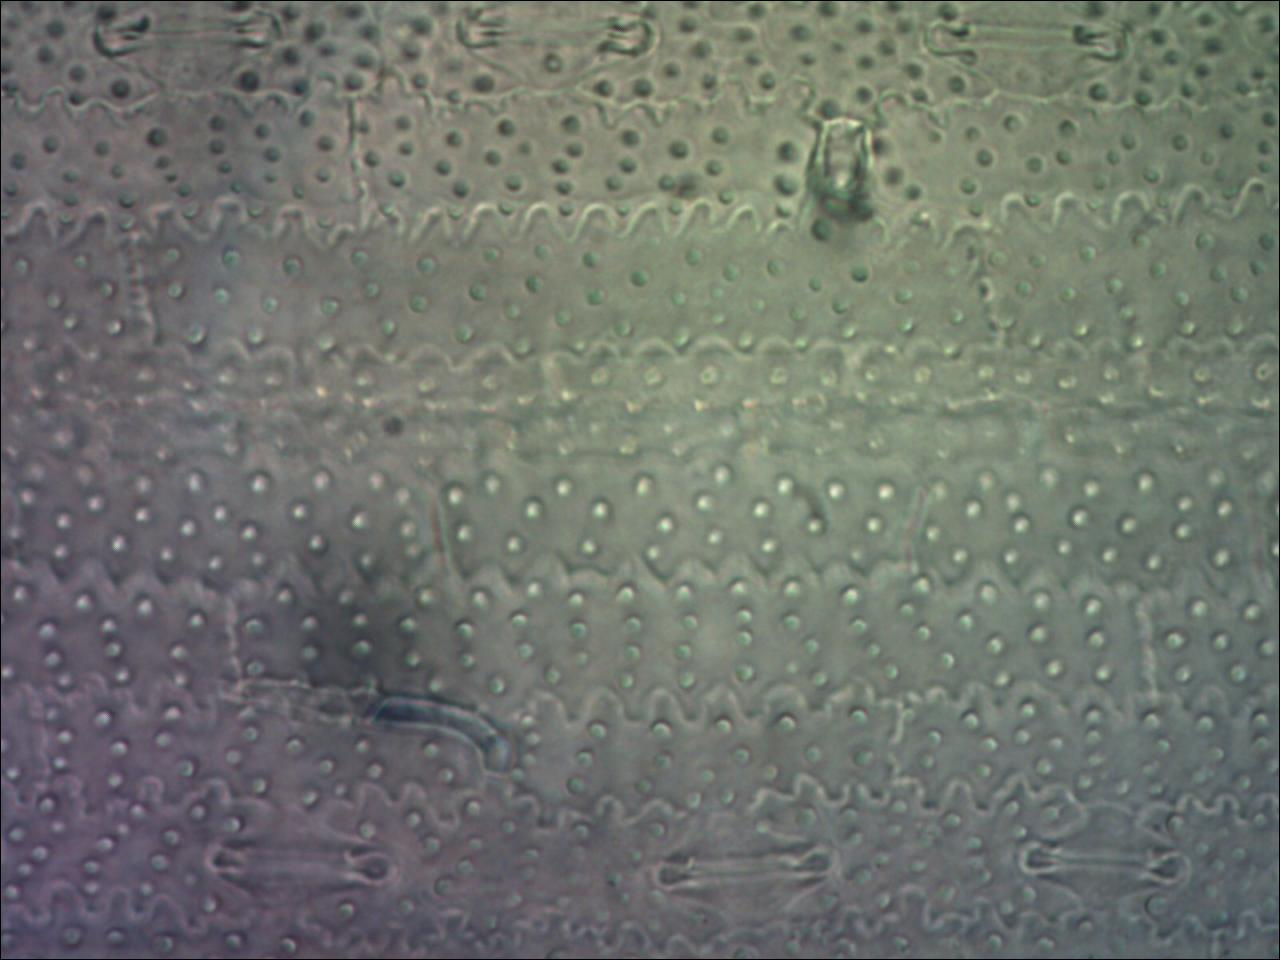stoma: (995, 791, 1213, 923), (645, 814, 854, 931), (452, 1, 675, 102), (930, 1, 1138, 107), (208, 806, 405, 917), (90, 1, 293, 104)
